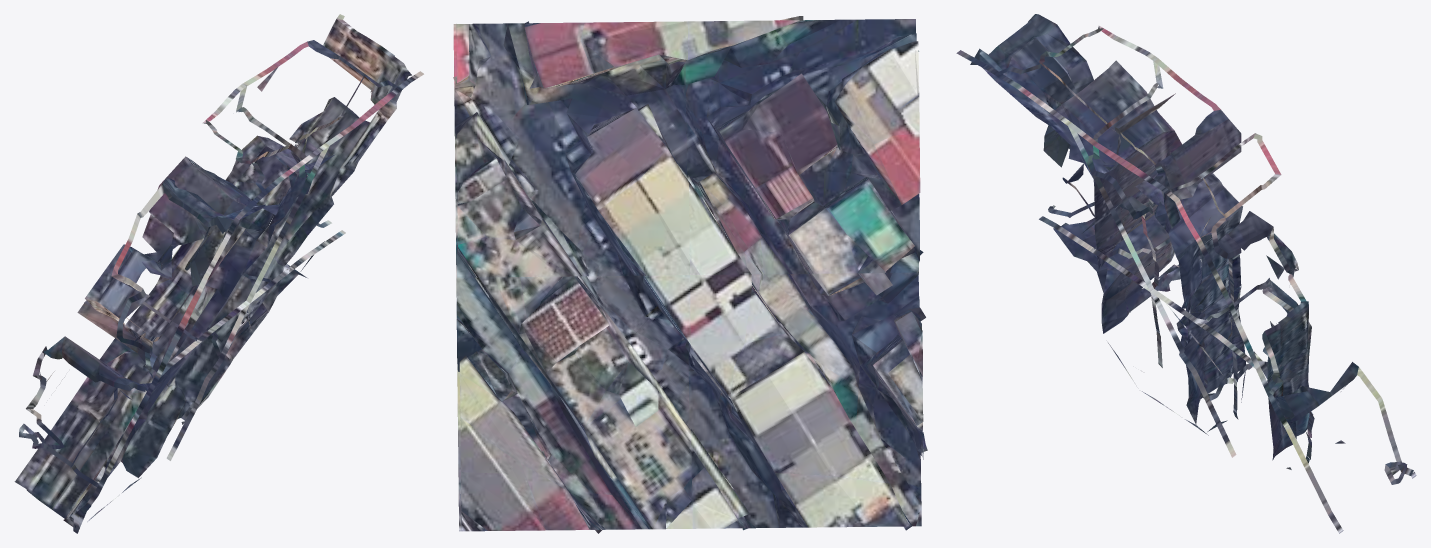
3 views of the same model, side by side, from view 1: azimuth 30°, elevation 25°; view 2: azimuth 150°, elevation 25°; view 3: azimuth 270°, elevation 25° (orthographic). The views are drawn at different scales.
Size of the model in its own units: 82.25 by 77.32 by 76.8.
Materials: 2 (2 with a texture image).
